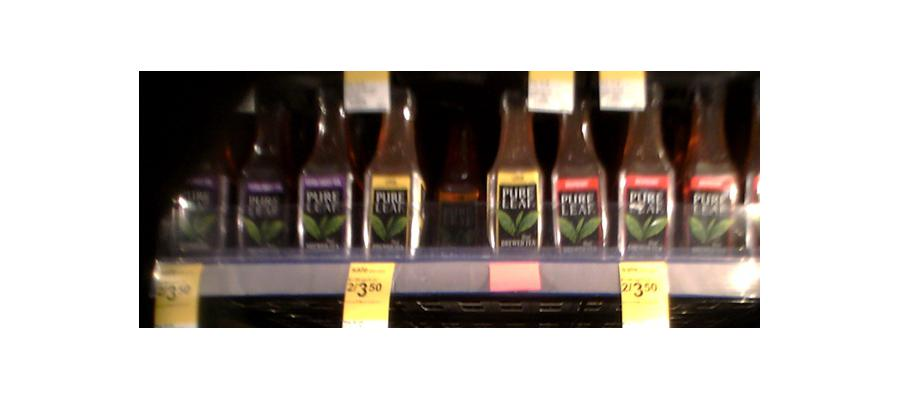bottle: (363, 81, 422, 258), (551, 83, 609, 252), (490, 82, 547, 253), (299, 84, 357, 251), (618, 83, 674, 253), (684, 80, 737, 257), (240, 86, 295, 249), (168, 109, 223, 257), (431, 109, 482, 248)
